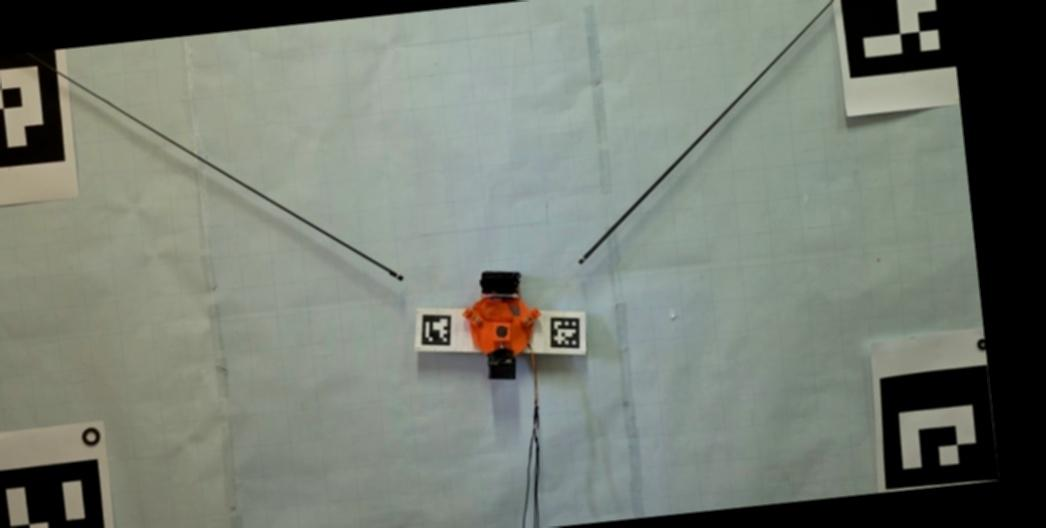robot: (461, 270, 542, 381)
